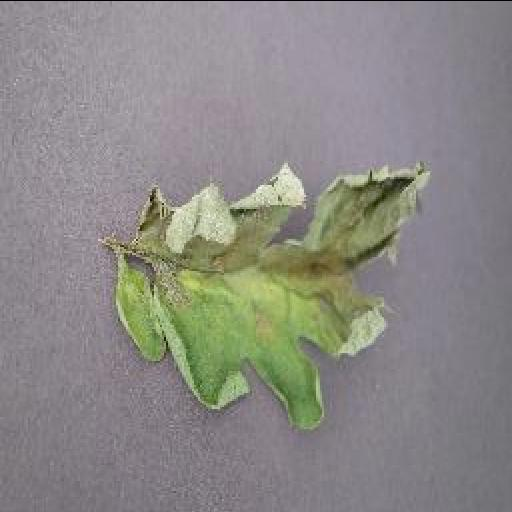disease_tomato: (114, 152, 436, 428)
